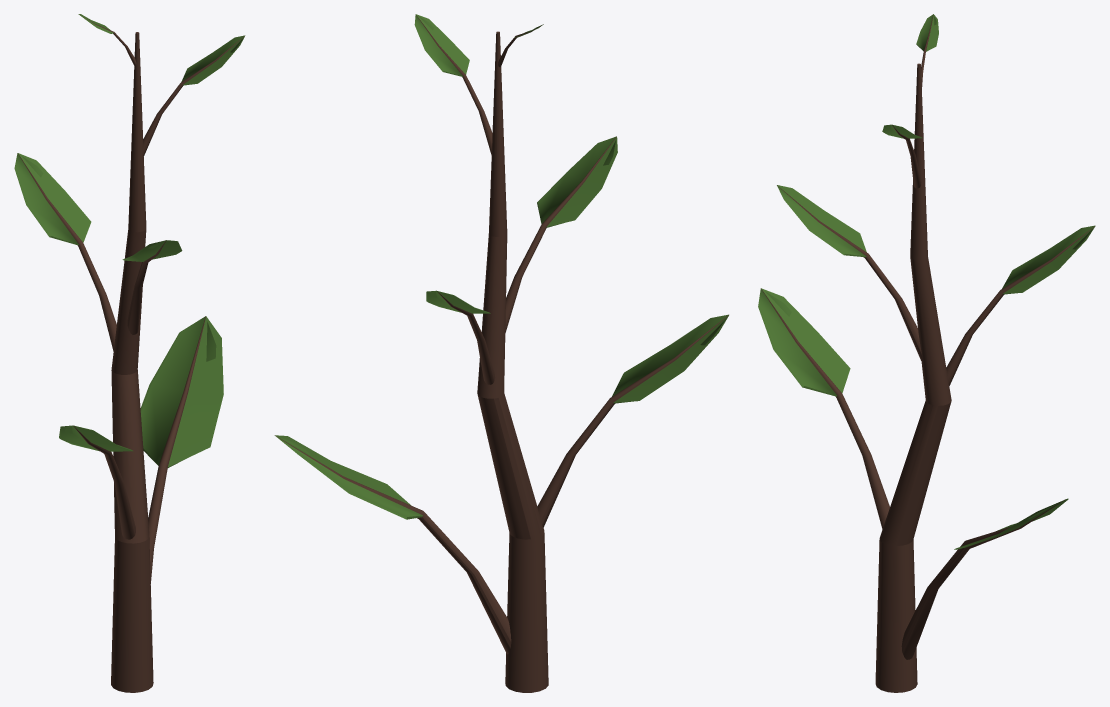
File: plant.fbx
3 views of the same model, side by side, from view 1: azimuth 30°, elevation 25°; view 2: azimuth 150°, elevation 25°; view 3: azimuth 270°, elevation 25° (orthographic). The views are drawn at different scales.
Parts seen in each view (by area): view 1: Cylinder.053; view 2: Cylinder.053; view 3: Cylinder.053.
Boxes of the visible parts, x1,y1,x2,y2 form: Cylinder.053: (14,14,245,692); Cylinder.053: (274,14,728,692); Cylinder.053: (758,14,1095,692).
Bounding box in the file's own units: 280 × 612 × 287.
